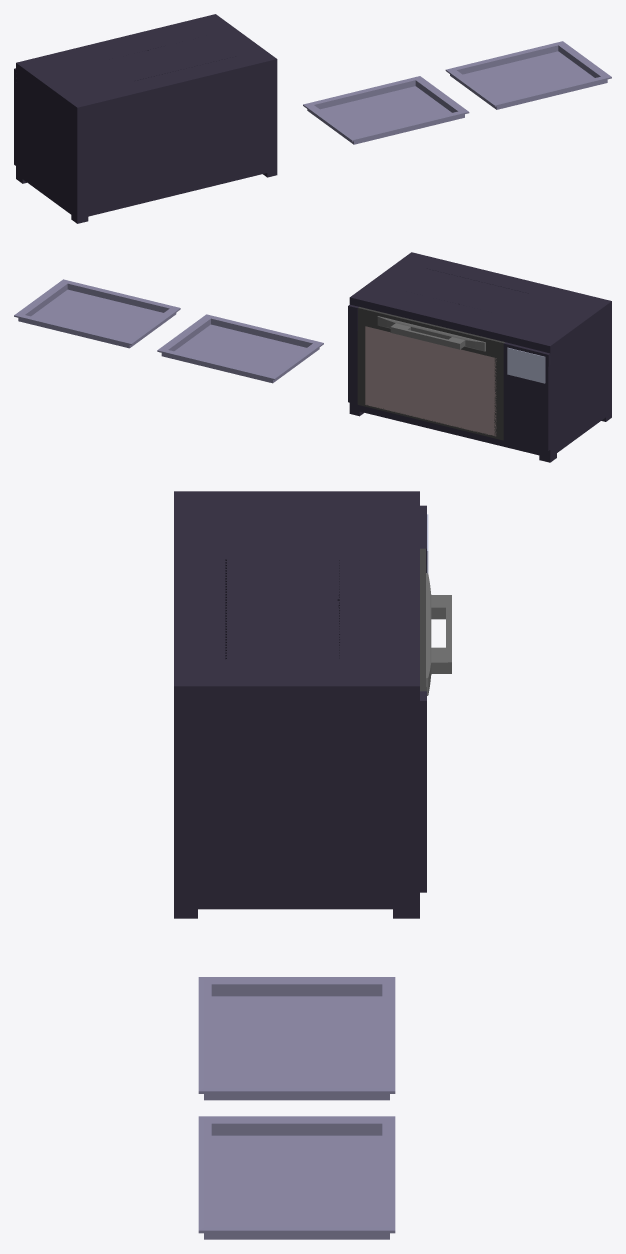
Rendered from oven.fbx.
The picture shows the model from 3 angles, top to bottom: view 1: azimuth 30°, elevation 25°; view 2: azimuth 150°, elevation 25°; view 3: azimuth 270°, elevation 25°; orthographic projection. The views are drawn at different scales.
Parts seen in each view (by area): view 1: display, tray, tray.001; view 2: display, handle, tray.001, tray; view 3: display, tray.001, tray, handle.
Boxes of the visible parts, bbox=[...] form: display: bbox=[14, 14, 277, 223]; tray: bbox=[303, 76, 469, 144]; tray.001: bbox=[445, 41, 611, 109]; display: bbox=[348, 252, 611, 462]; handle: bbox=[357, 307, 504, 440]; tray.001: bbox=[14, 279, 180, 348]; tray: bbox=[157, 314, 323, 383]; display: bbox=[174, 491, 428, 918]; tray.001: bbox=[198, 1116, 395, 1239]; tray: bbox=[198, 977, 395, 1100]; handle: bbox=[420, 548, 451, 695].
Bounding box in the file's own units: 9252 × 1899 × 2061.
